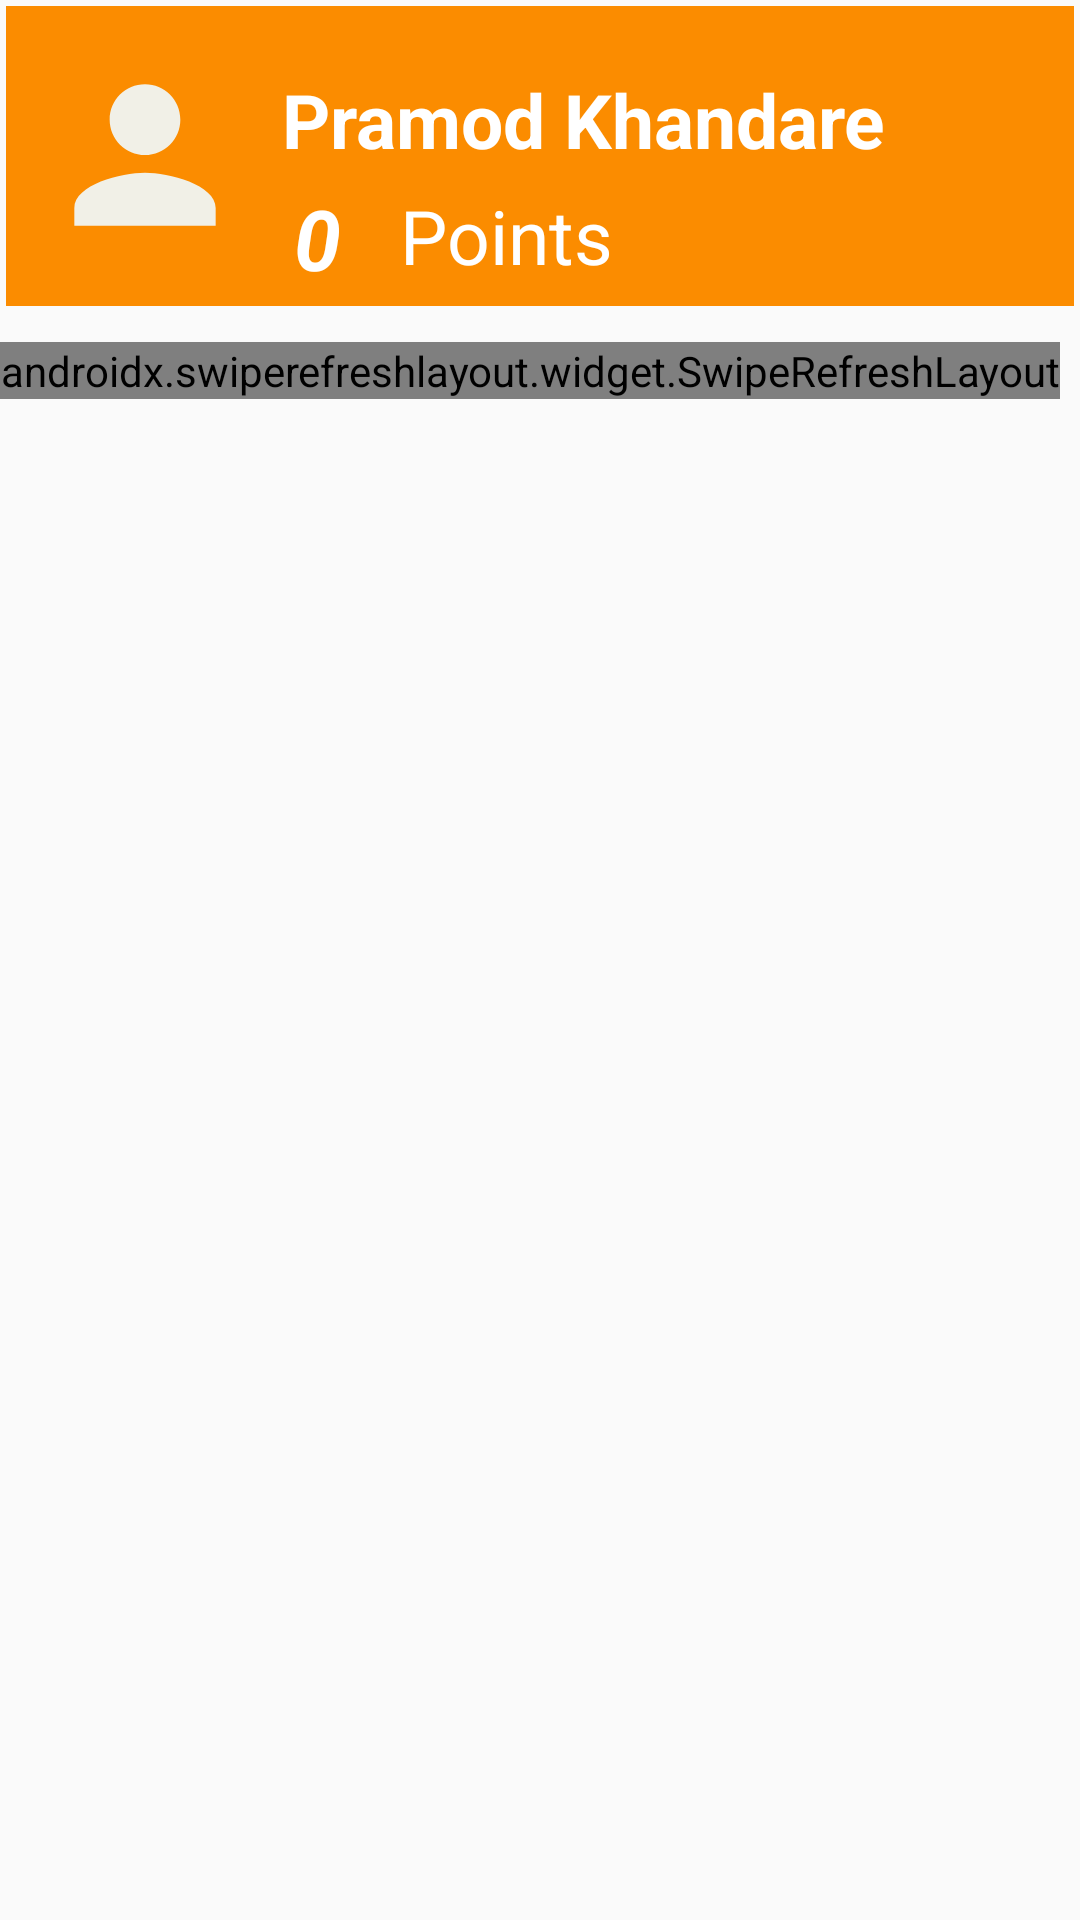

Named icons in this screenshot (1080px x 1920px) and their bounding boxes, (x1, y1, x2, y2):
person: (74, 84, 216, 226)
